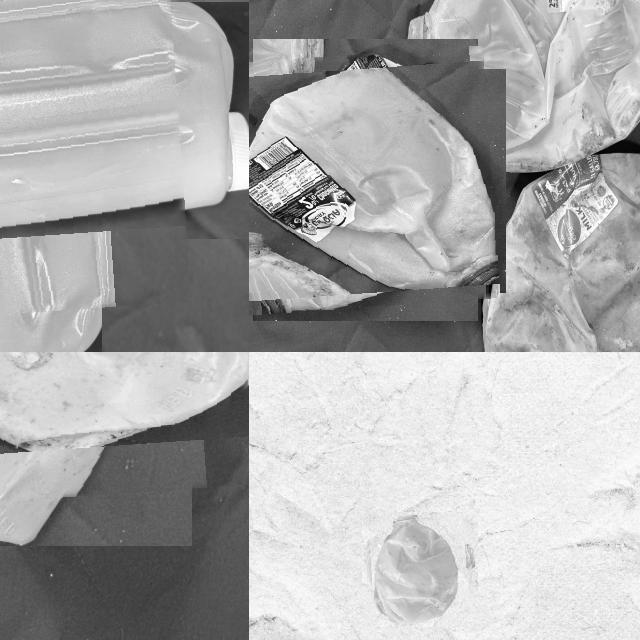milk-jug: (249, 49, 496, 311), (0, 0, 184, 321), (405, 0, 640, 179), (0, 352, 247, 506), (473, 149, 640, 352), (366, 515, 474, 624)
